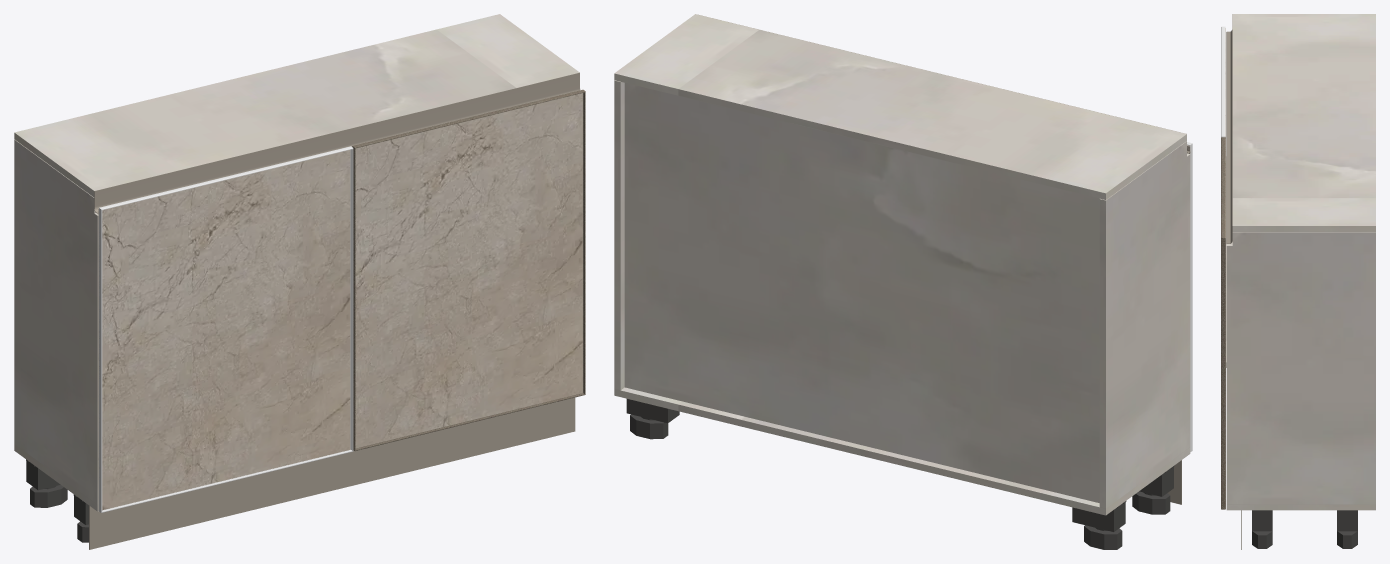
File: BASE BLIND CABINET 1 SHELF (H720xW1150xD336) S550_BBC1S1HS_LH.glb
3 renders of one model, left to right at view 1: azimuth 30°, elevation 25°; view 2: azimuth 150°, elevation 25°; view 3: azimuth 270°, elevation 25°, orthographic. The views are drawn at different scales.
Size of what is drawn, in the model's own units: 1.15 by 0.82 by 0.3548.
6 materials, 3 textured.
